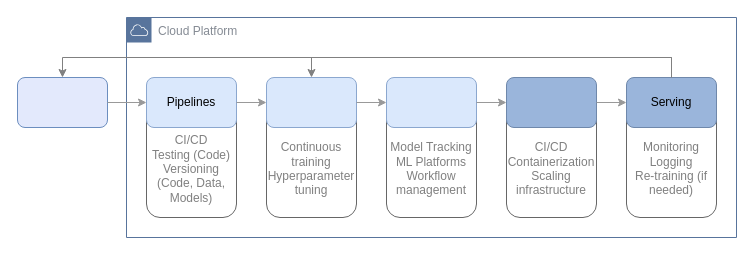
This 754x255 diagram has some shape labels left out. The shapes that lost their labels are listed below. From the top down, each one's centre as x and y in pixels, then its label:
the point at 62,102: Develop
the point at 311,102: Model training
the point at 431,102: Experiment & Model Management
the point at 551,102: Deploy for production
